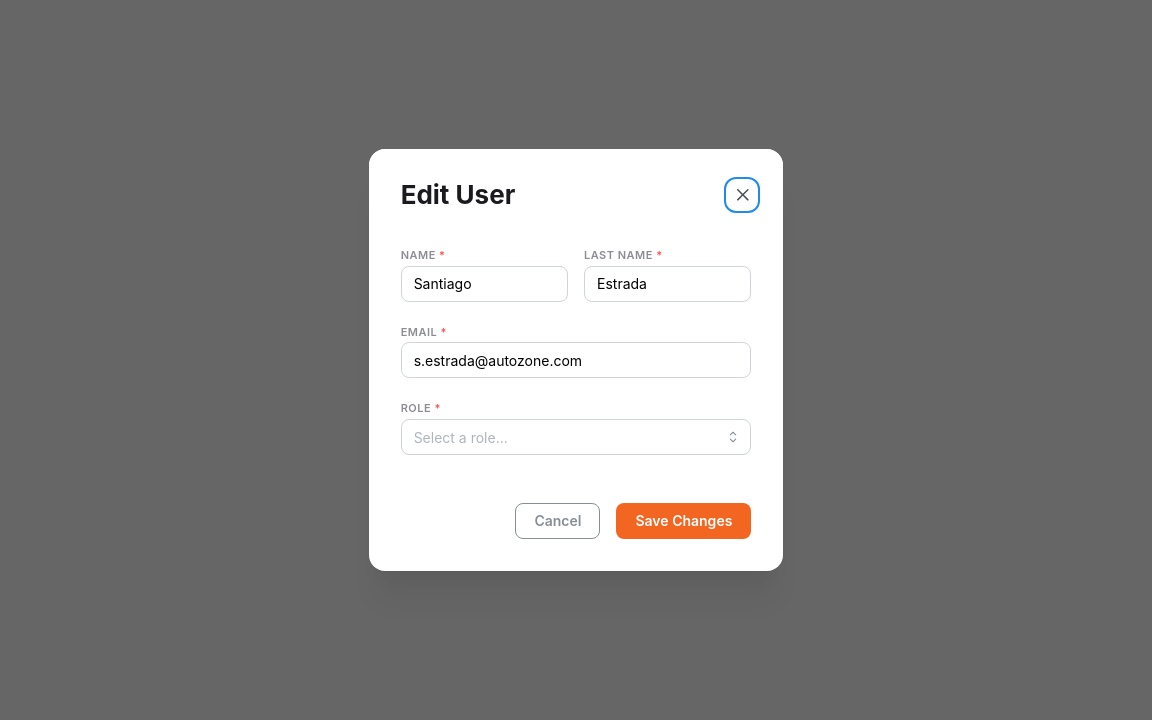
Test case: UserCreateModal — edit mode › empty name field blocks submit and shows validation error
expect the form with test id "user-create-form" is shown: met, box [401,241,751,539]
Clear the field with test id "user-name-input". click: [484, 284]
box: [401,266,568,302]
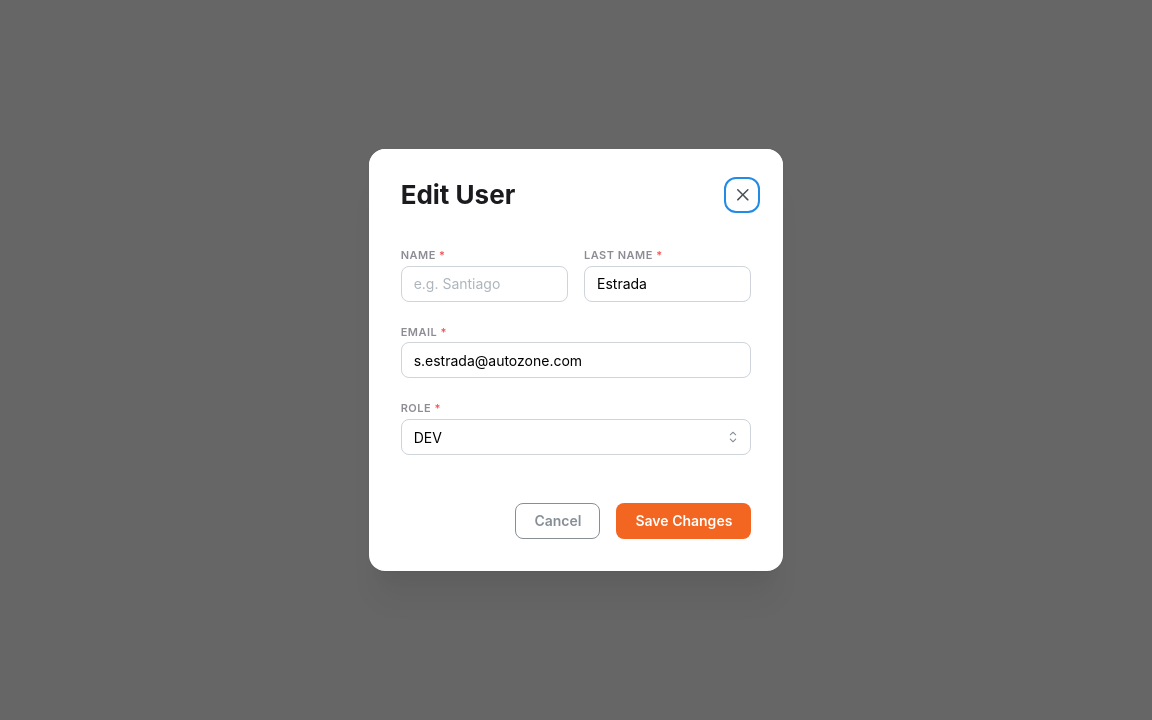
Click the button with test id "user-submit-btn". click: [684, 521]
box: [616,503,751,539]
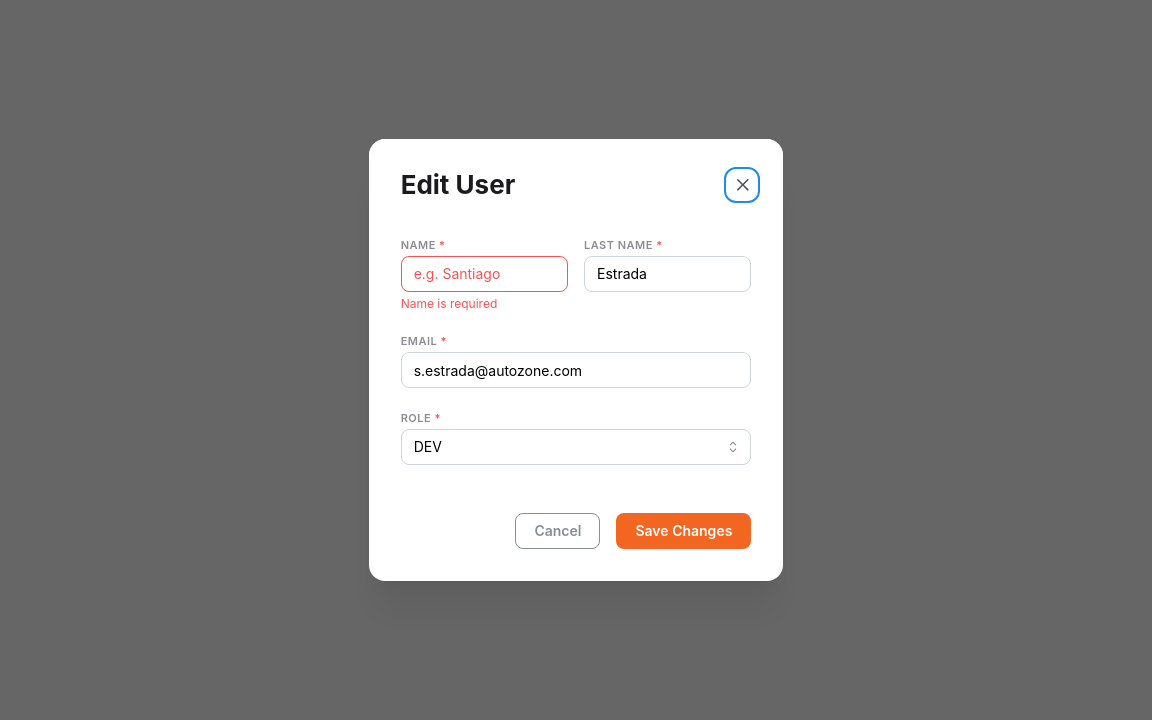
expect the text "Name is required" is shown: met, box [401,296,497,311]
